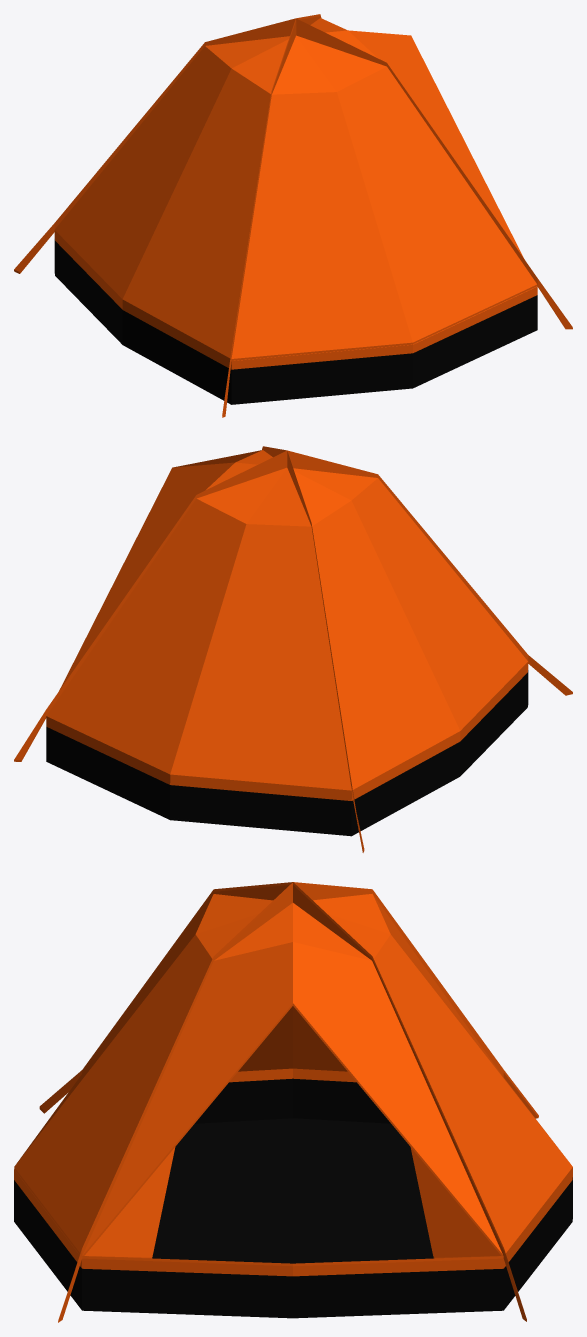
The model's file is tent.fbx.
The picture shows the model from 3 angles, top to bottom: view 1: azimuth 30°, elevation 25°; view 2: azimuth 150°, elevation 25°; view 3: azimuth 270°, elevation 25°; orthographic projection. The views are drawn at different scales.
Visible parts, largest first — view 1: Cone.001; view 2: Cone.001; view 3: Cone.001.
Part boxes in pixels (<box>): Cone.001: <box>14,14,572,417</box>; Cone.001: <box>14,446,572,852</box>; Cone.001: <box>14,882,572,1322</box>.
Bounding box in the file's own units: 819 × 624 × 927.
